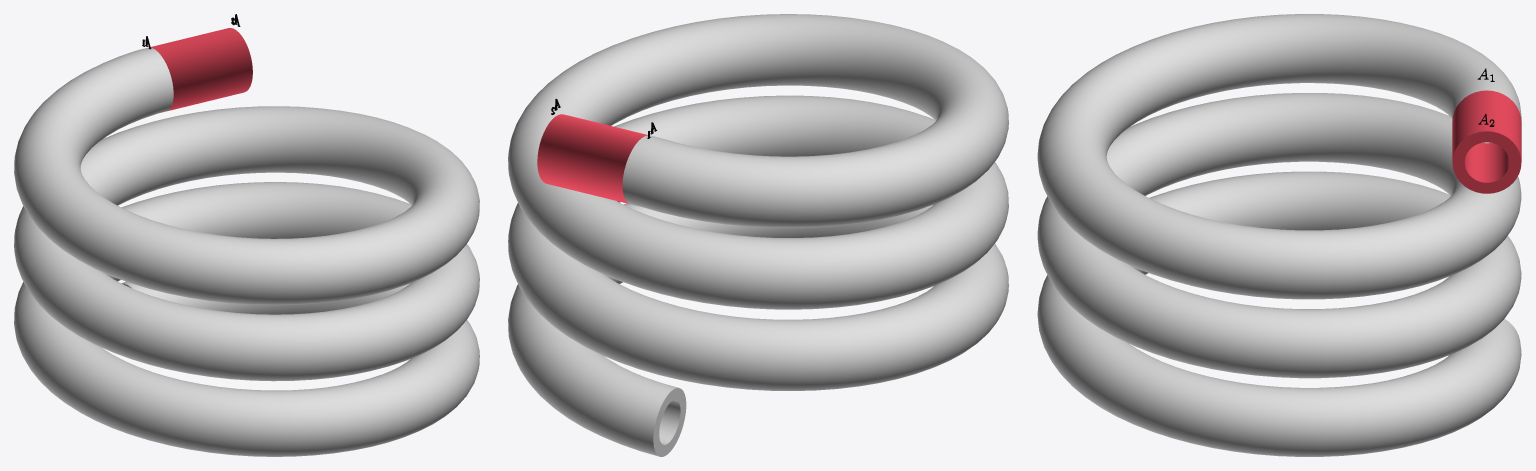
The model's file is nozzle.glb.
The picture shows the model from 3 angles, left to right: view 1: azimuth 30°, elevation 25°; view 2: azimuth 150°, elevation 25°; view 3: azimuth 270°, elevation 25°; orthographic projection. The views are drawn at different scales.
Visible parts, largest first — view 1: Spiral, Spiral.002; view 2: Spiral, Spiral.002; view 3: Spiral, Spiral.002.
Boxes of the visible parts, <box> form: Spiral: <box>14,47,479,456</box>; Spiral.002: <box>150,28,252,111</box>; Spiral: <box>508,14,1008,456</box>; Spiral.002: <box>537,114,647,203</box>; Spiral: <box>1037,14,1521,456</box>; Spiral.002: <box>1452,90,1521,193</box>.
Bounding box in the file's own units: 14 × 10.12 × 14.
